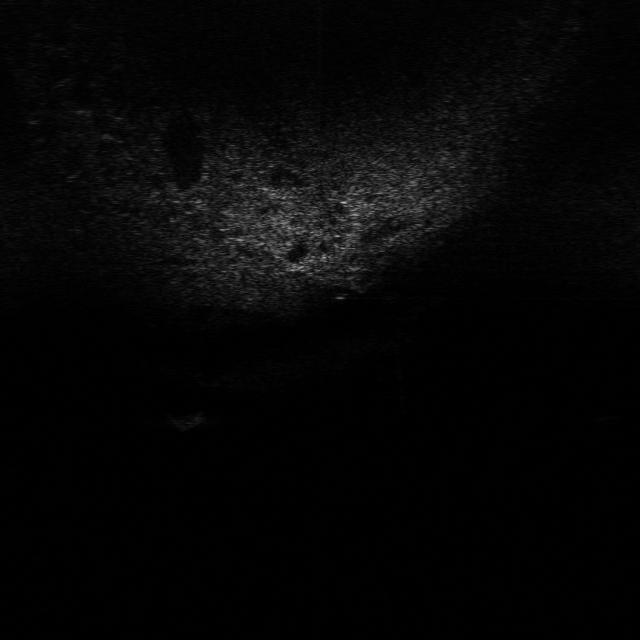cube: (158, 404, 211, 434)
